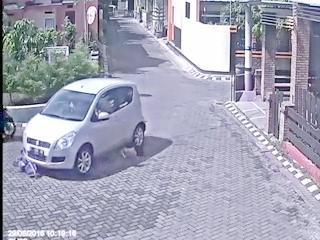Car: (23, 76, 147, 174)
Minor Accident: (12, 74, 150, 183)
Motor: (13, 153, 41, 181)
